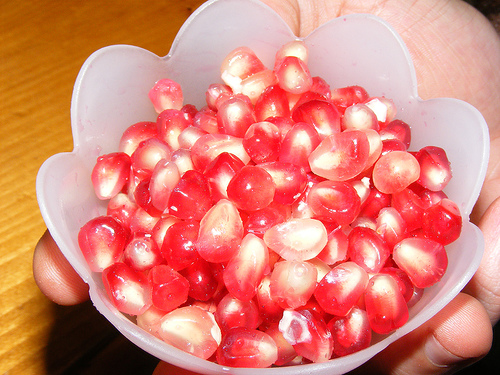pomogranate: (77, 40, 463, 367)
